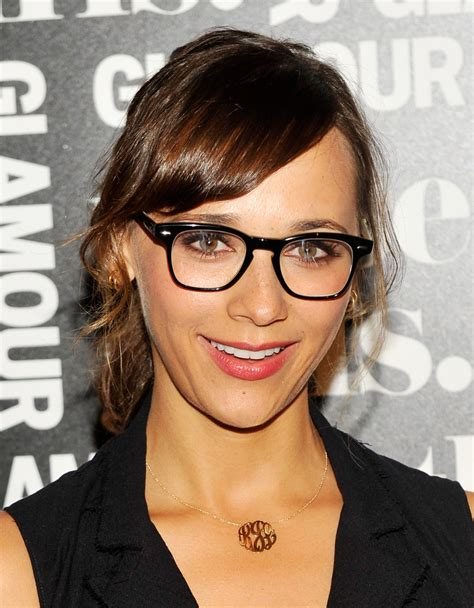sem_capacete: (90, 22, 381, 443)
